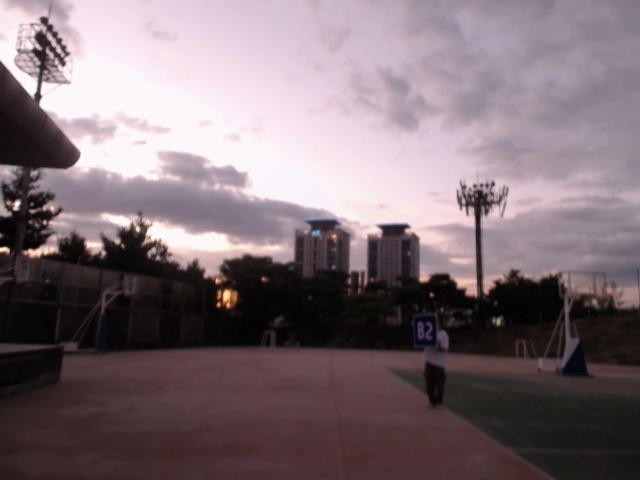delivery_b2: (411, 314, 440, 348)
